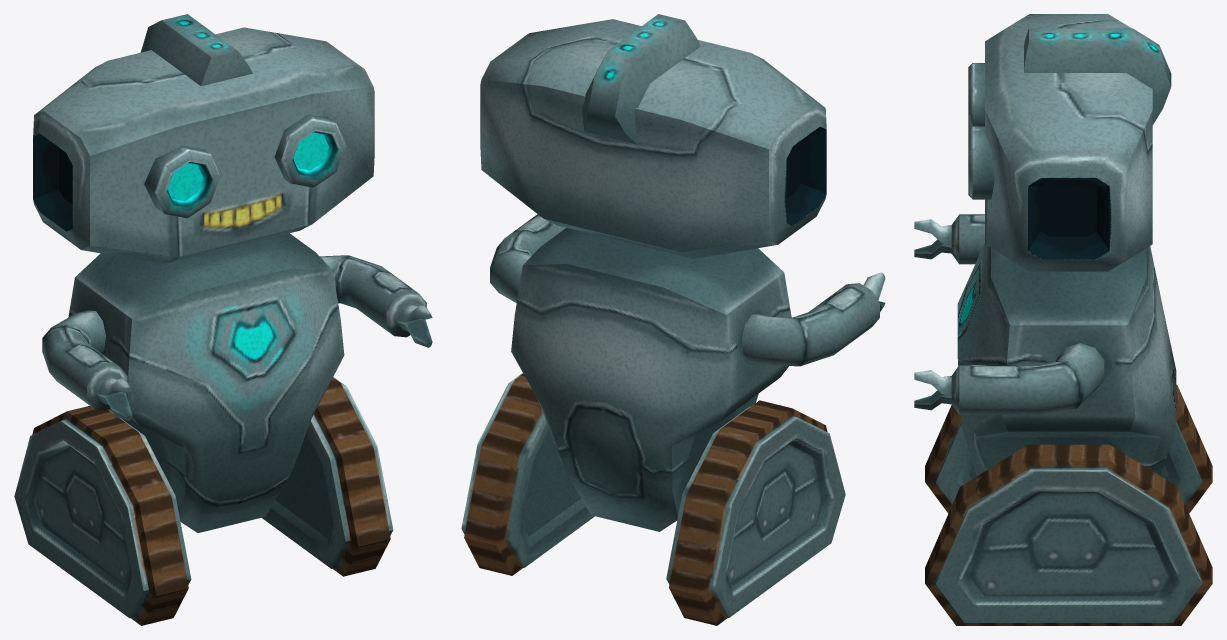
File: roboterspielzeug.fbx
The picture shows the model from 3 angles, left to right: view 1: azimuth 30°, elevation 25°; view 2: azimuth 150°, elevation 25°; view 3: azimuth 270°, elevation 25°; orthographic projection. The views are drawn at different scales.
Parts seen in each view (by area): view 1: roboter_spielzeug; view 2: roboter_spielzeug; view 3: roboter_spielzeug.
Boxes of the visible parts, x1=… form: roboter_spielzeug: x1=14, y1=14, x2=432, y2=625; roboter_spielzeug: x1=461, y1=14, x2=885, y2=625; roboter_spielzeug: x1=914, y1=14, x2=1212, y2=625.
Bounding box in the file's own units: 50.75 × 73.75 × 37.42.
